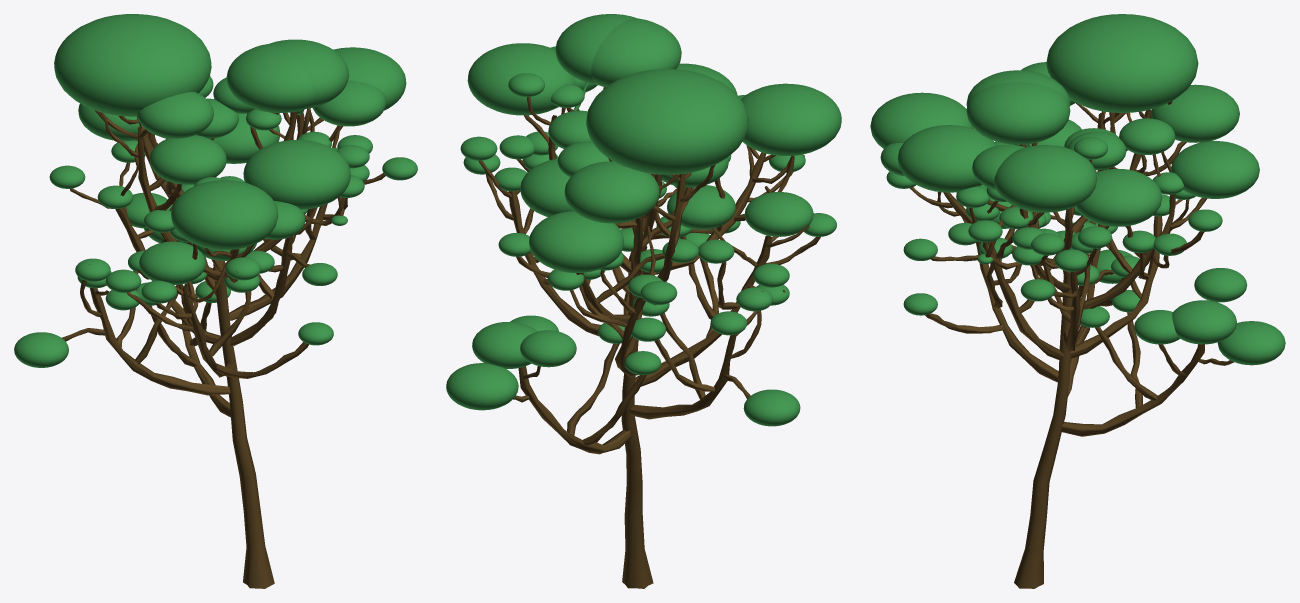
Rendered from tree_three.fbx.
3 renders of one model, left to right at view 1: azimuth 30°, elevation 25°; view 2: azimuth 150°, elevation 25°; view 3: azimuth 270°, elevation 25°, orthographic. The views are drawn at different scales.
Visible parts, largest first — view 1: Foliage001; view 2: Foliage001; view 3: Foliage001.
Boxes of the visible parts, <box> form: Foliage001: <box>14,14,417,588</box>; Foliage001: <box>446,14,841,588</box>; Foliage001: <box>870,14,1285,588</box>.
Size of the model in its own units: 260 by 373 by 270.
